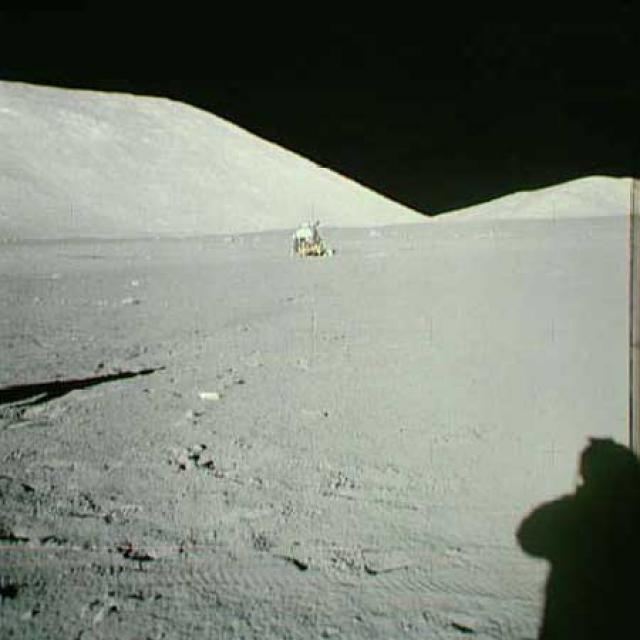artifact: (284, 212, 334, 258)
rock: (196, 386, 224, 402), (121, 296, 145, 308), (191, 441, 208, 452)
